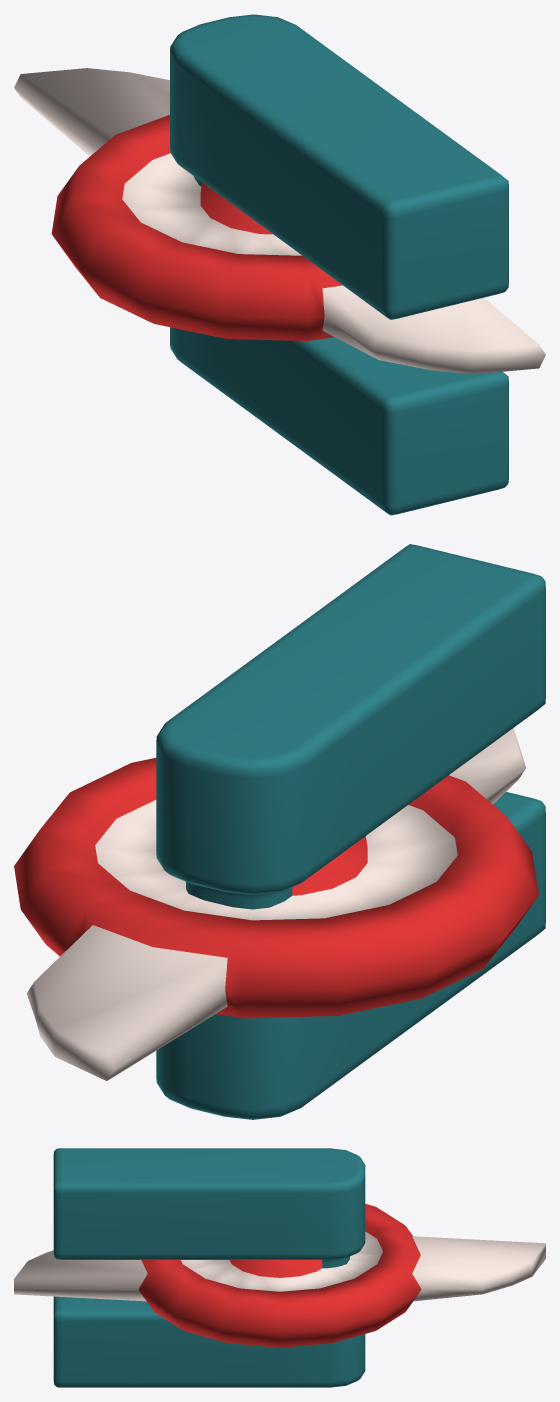
Rendered from Cutter1.fbx.
3 views of the same model, one above another, from view 1: azimuth 30°, elevation 25°; view 2: azimuth 150°, elevation 25°; view 3: azimuth 270°, elevation 25° (orthographic). The views are drawn at different scales.
Parts seen in each view (by area): view 1: Cube.001, Cylinder; view 2: Cube.001, Cylinder; view 3: Cube.001, Cylinder.
Boxes of the visible parts, <box> form: Cube.001: <box>170,14,508,515</box>; Cylinder: <box>14,68,545,374</box>; Cube.001: <box>156,544,545,1119</box>; Cylinder: <box>14,728,538,1080</box>; Cube.001: <box>53,1148,365,1387</box>; Cylinder: <box>14,1204,545,1347</box>.
Size of the model in its own units: 1.17 by 0.8719 by 2.06.
